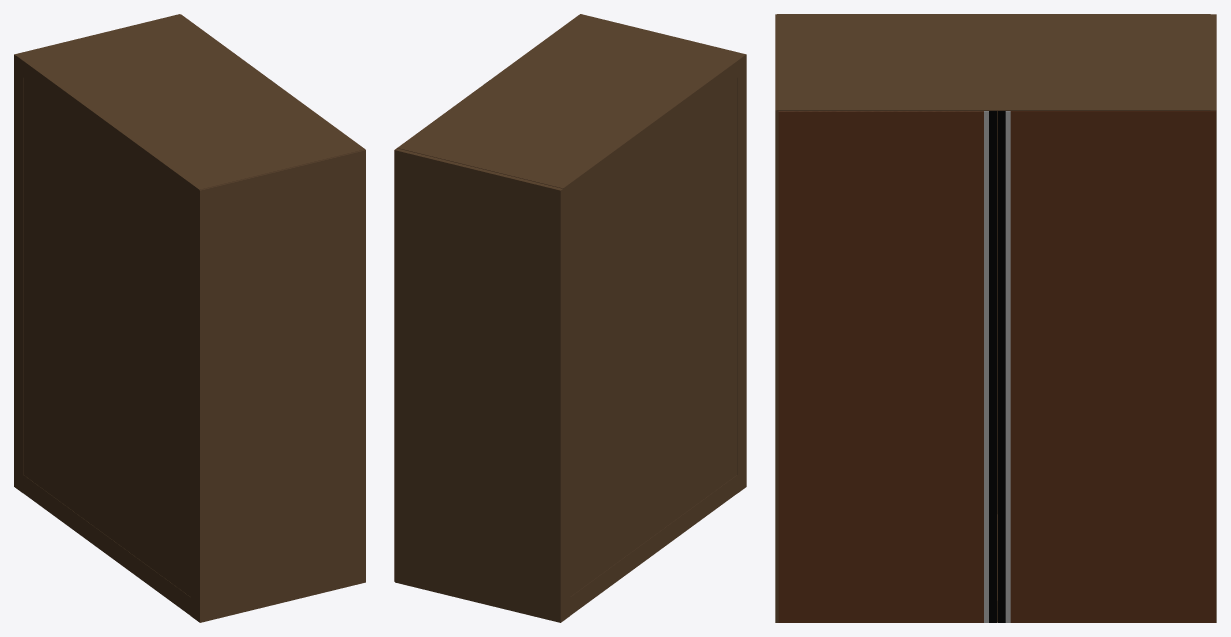
Rendered from ЛИФТ.fbx.
3 renders of one model, left to right at view 1: azimuth 30°, elevation 25°; view 2: azimuth 150°, elevation 25°; view 3: azimuth 270°, elevation 25°, orthographic. The views are drawn at different scales.
Visible parts, largest first — view 1: Cube.005; view 2: Cube.005; view 3: Дверь1, Дверь2, Cube.005.
Boxes of the visible parts, x1=… form: Cube.005: x1=14, y1=14, x2=365, y2=622; Cube.005: x1=395, y1=14, x2=746, y2=622; Дверь1: x1=778, y1=111, x2=996, y2=622; Дверь2: x1=997, y1=111, x2=1215, y2=622; Cube.005: x1=775, y1=14, x2=1216, y2=622.
Size of the model in its own units: 201 by 499 by 389.
